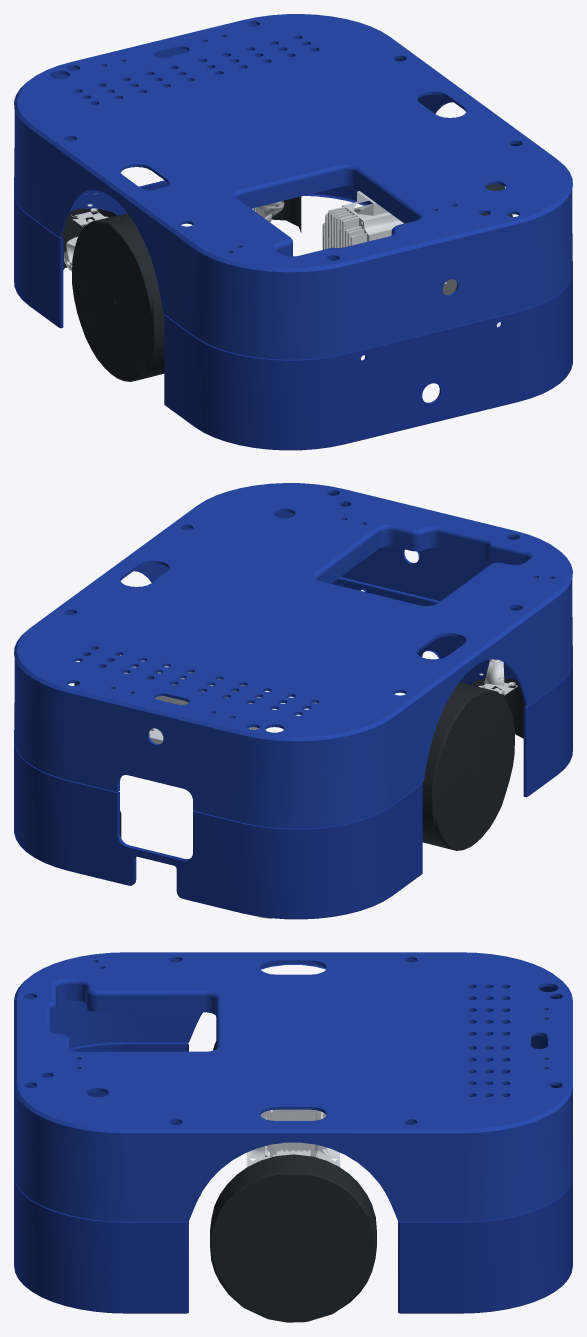
The model's file is CartShell_1026.glb.
3 renders of one model, top to bottom at view 1: azimuth 30°, elevation 25°; view 2: azimuth 150°, elevation 25°; view 3: azimuth 270°, elevation 25°, orthographic.
Parts seen in each view (by area): view 1: 01_UpperShell, 00_LowerShell, 02_DriveWheel, 04_DriveWheel, 28_Caster, 17_Caster; view 2: 01_UpperShell, 00_LowerShell, 02_DriveWheel, 39_Caster, 42_Hardware, 04_DriveWheel; view 3: 01_UpperShell, 00_LowerShell, 04_DriveWheel, 02_DriveWheel, 03_Hardware.
Boxes of the visible parts, x1,y1,x2,y2 form: 01_UpperShell: [14, 14, 572, 359]; 00_LowerShell: [14, 180, 572, 450]; 02_DriveWheel: [72, 213, 164, 381]; 04_DriveWheel: [322, 184, 512, 294]; 28_Caster: [61, 208, 116, 271]; 17_Caster: [251, 196, 301, 233]; 01_UpperShell: [14, 483, 572, 828]; 00_LowerShell: [14, 578, 572, 919]; 02_DriveWheel: [422, 682, 514, 850]; 39_Caster: [470, 678, 525, 738]; 42_Hardware: [483, 659, 517, 695]; 04_DriveWheel: [74, 649, 261, 743]; 01_UpperShell: [14, 952, 572, 1221]; 00_LowerShell: [14, 1043, 572, 1313]; 04_DriveWheel: [210, 1149, 376, 1322]; 02_DriveWheel: [213, 1041, 326, 1157]; 03_Hardware: [246, 1147, 340, 1167].
Size of the model in its own units: 0.3816 by 0.1955 by 0.5.
